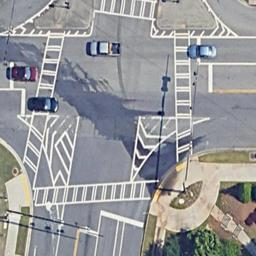Car: (25, 96, 60, 113), (86, 40, 123, 56), (10, 65, 38, 82), (186, 44, 219, 58)
Chevron: (129, 117, 209, 179), (17, 114, 80, 182)
Crosswalk: (14, 37, 65, 189), (29, 176, 163, 207), (174, 32, 192, 166), (95, 1, 159, 22)
Double Solid Yellow Line: (212, 86, 256, 93), (73, 227, 80, 256)
Solid White Line: (111, 219, 120, 256), (53, 224, 61, 256), (119, 222, 126, 256), (199, 60, 256, 64), (1, 88, 27, 92), (93, 237, 98, 256)
Stopline: (99, 207, 144, 229), (78, 227, 99, 236), (20, 89, 27, 115), (207, 64, 213, 94)
